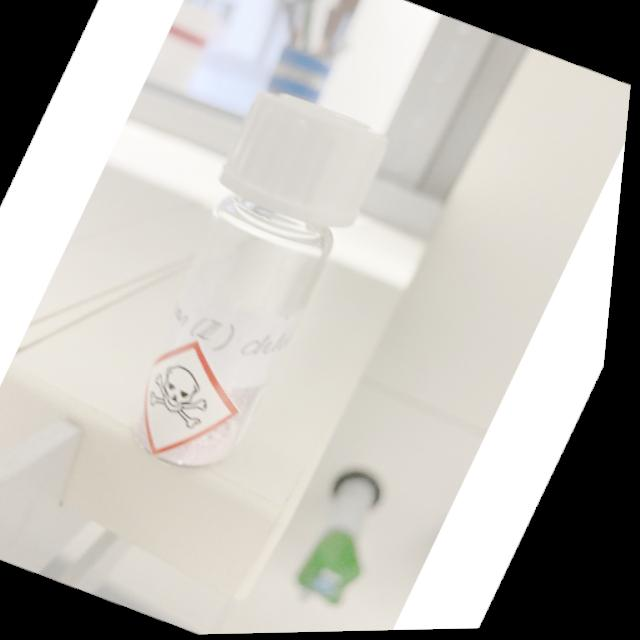acute toxicity: (146, 358, 230, 434)
